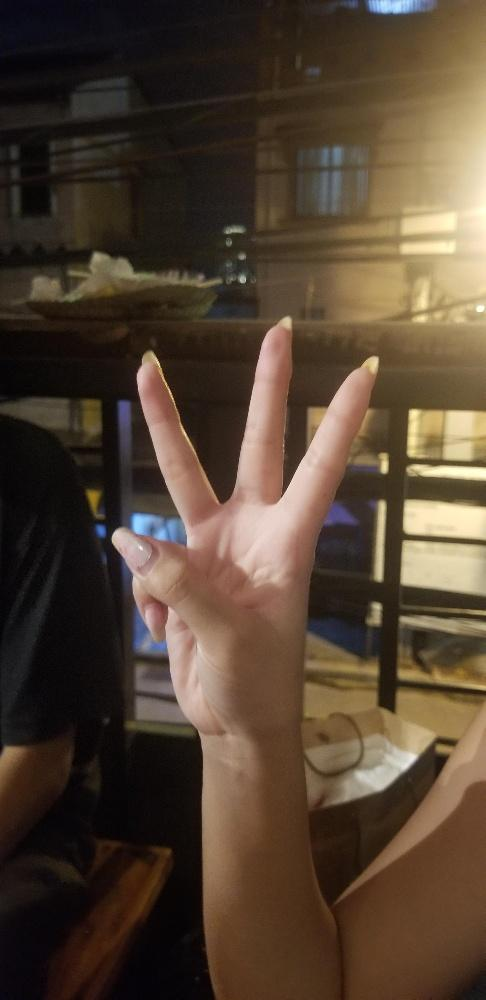w: (105, 308, 379, 732)
